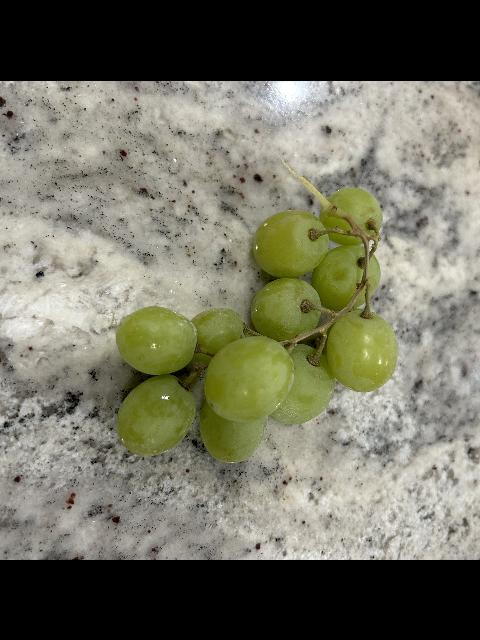Grapes: (114, 185, 402, 463)
